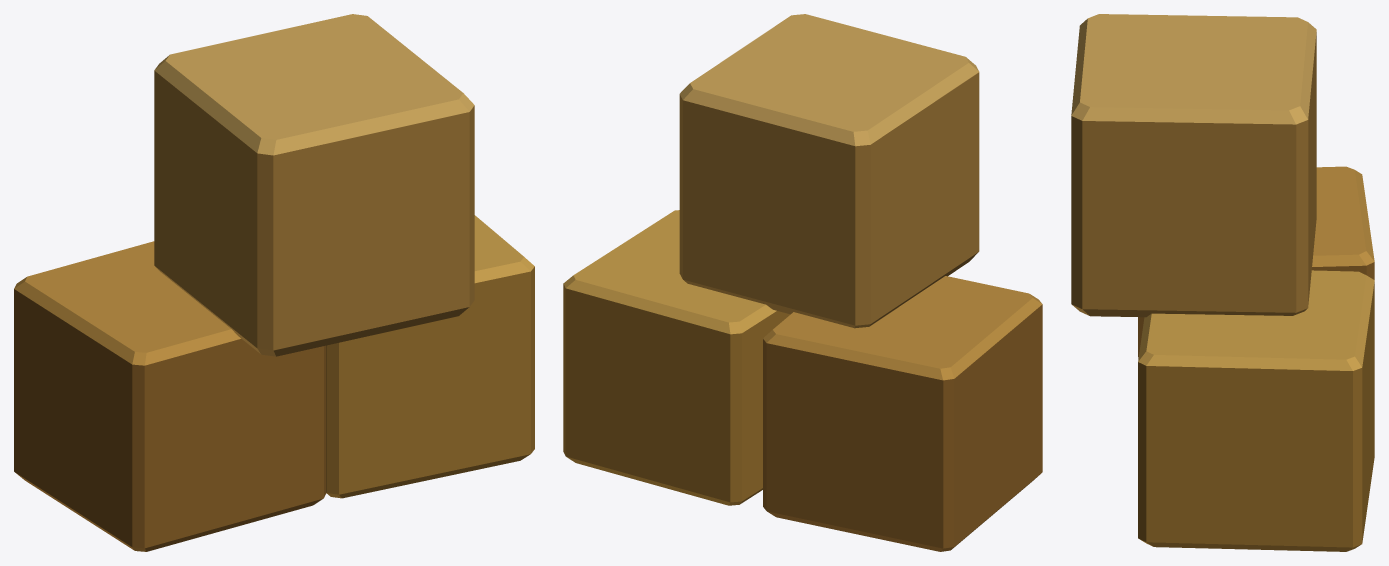
File: canyon_10.glb
3 views of the same model, side by side, from view 1: azimuth 30°, elevation 25°; view 2: azimuth 150°, elevation 25°; view 3: azimuth 270°, elevation 25° (orthographic). The views are drawn at different scales.
Visible parts, largest first — view 1: canyon_10; view 2: canyon_10; view 3: canyon_10.
Part boxes in pixels (x1,y1,x2,y2): canyon_10: (14, 14, 534, 551); canyon_10: (563, 14, 1042, 551); canyon_10: (1071, 14, 1374, 551).
Size of the model in its own units: 2 by 1.84 by 1.28.
